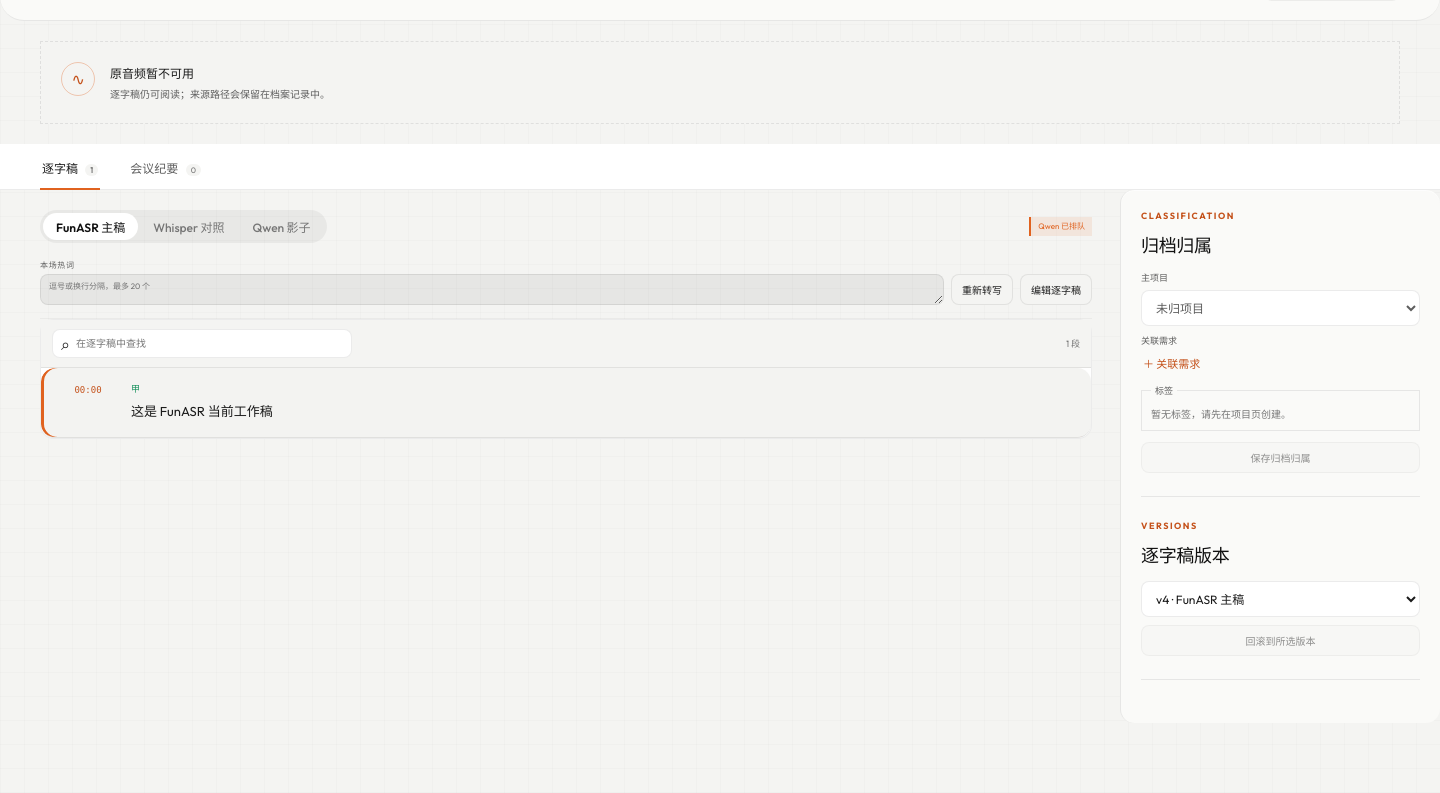
Scenario: MeetingDetailPage Whisper comparison › keeps the active Qwen candidate and gold editor stable while retaining only the newest out-of-order snapshot
(page scrolled)
Click the button "Qwen 影子" at (282, 226), box [239,213,324,240]
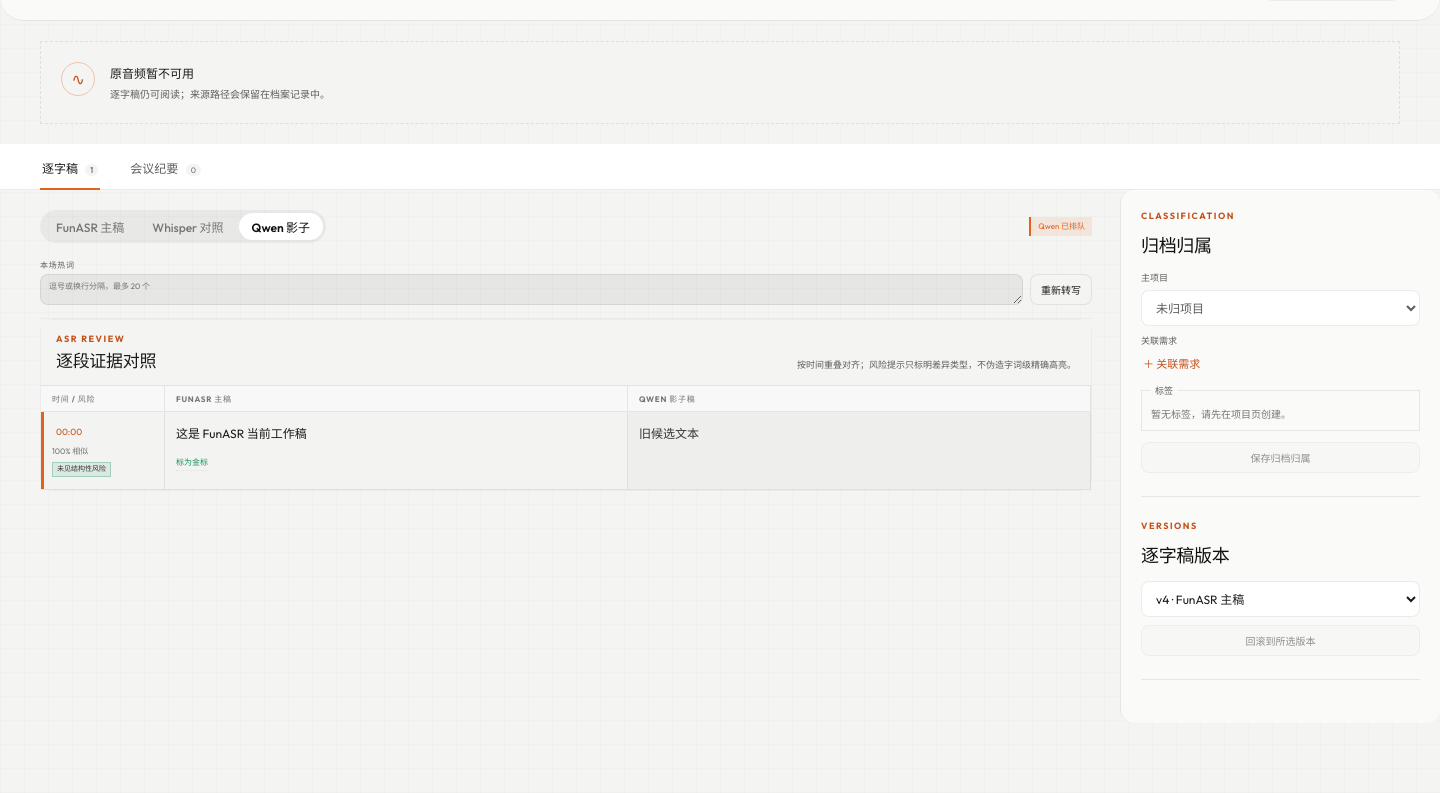
Expected: the text "旧候选文本" is shown, [639,426,699,441]
Click the button "标为金标" at (192, 462), box [176,453,208,471]
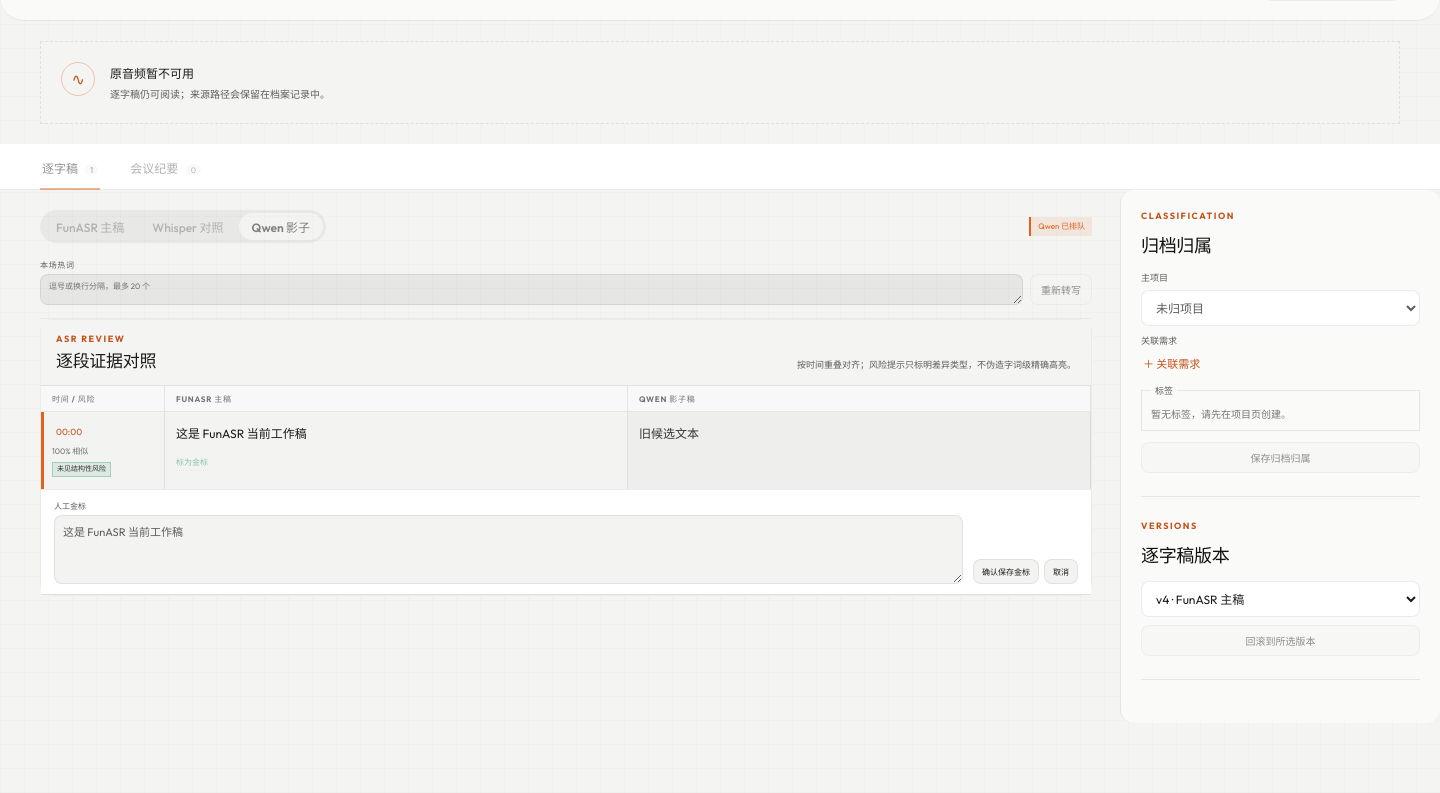
Replace the text in the text box named "seg-main 金标文本" with "正在人工修订的金标" at (508, 549), box [54,515,963,584]
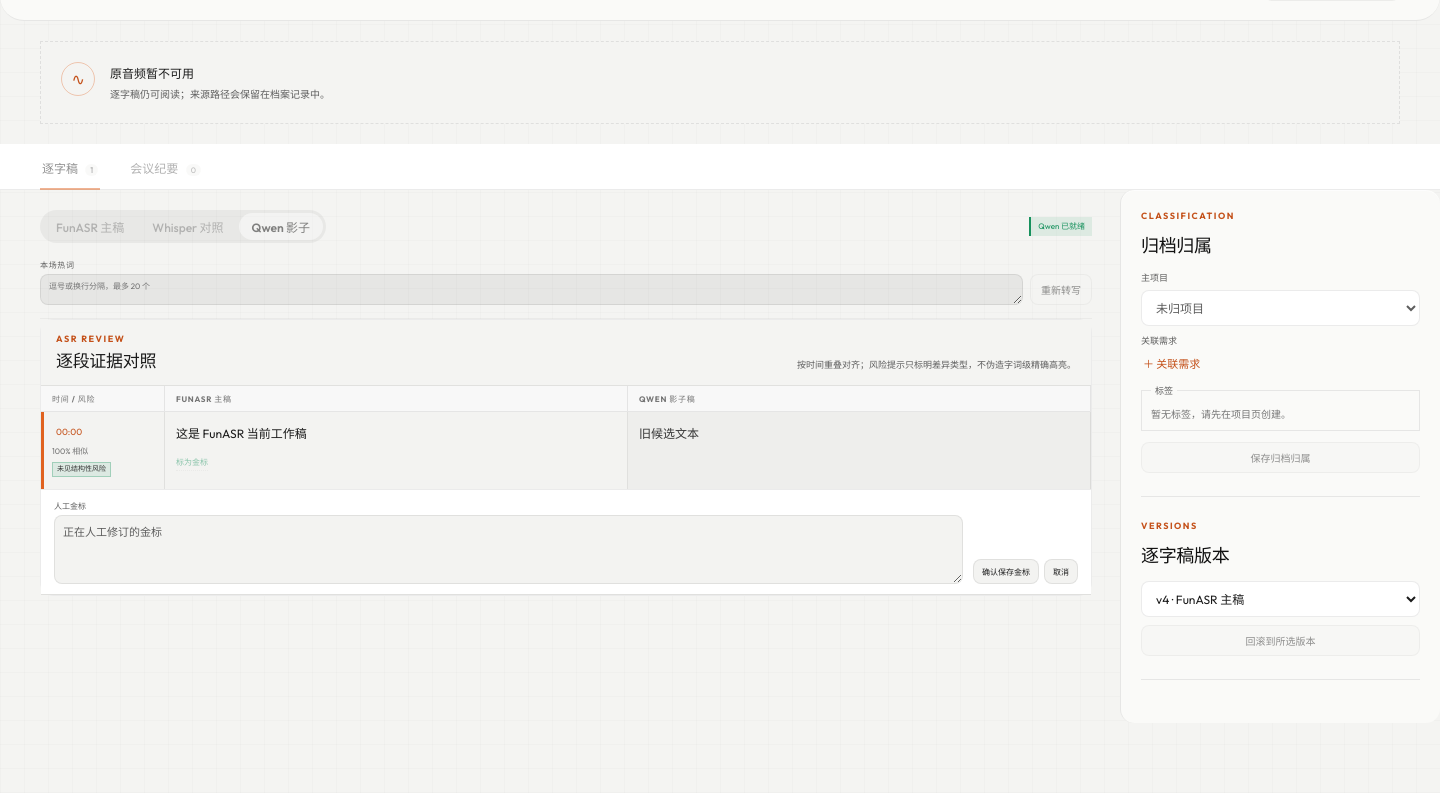
Expected: the text "旧候选文本" is shown, [639,426,699,441]
Click the button "确认保存金标" at (1006, 571), box [973,559,1039,584]
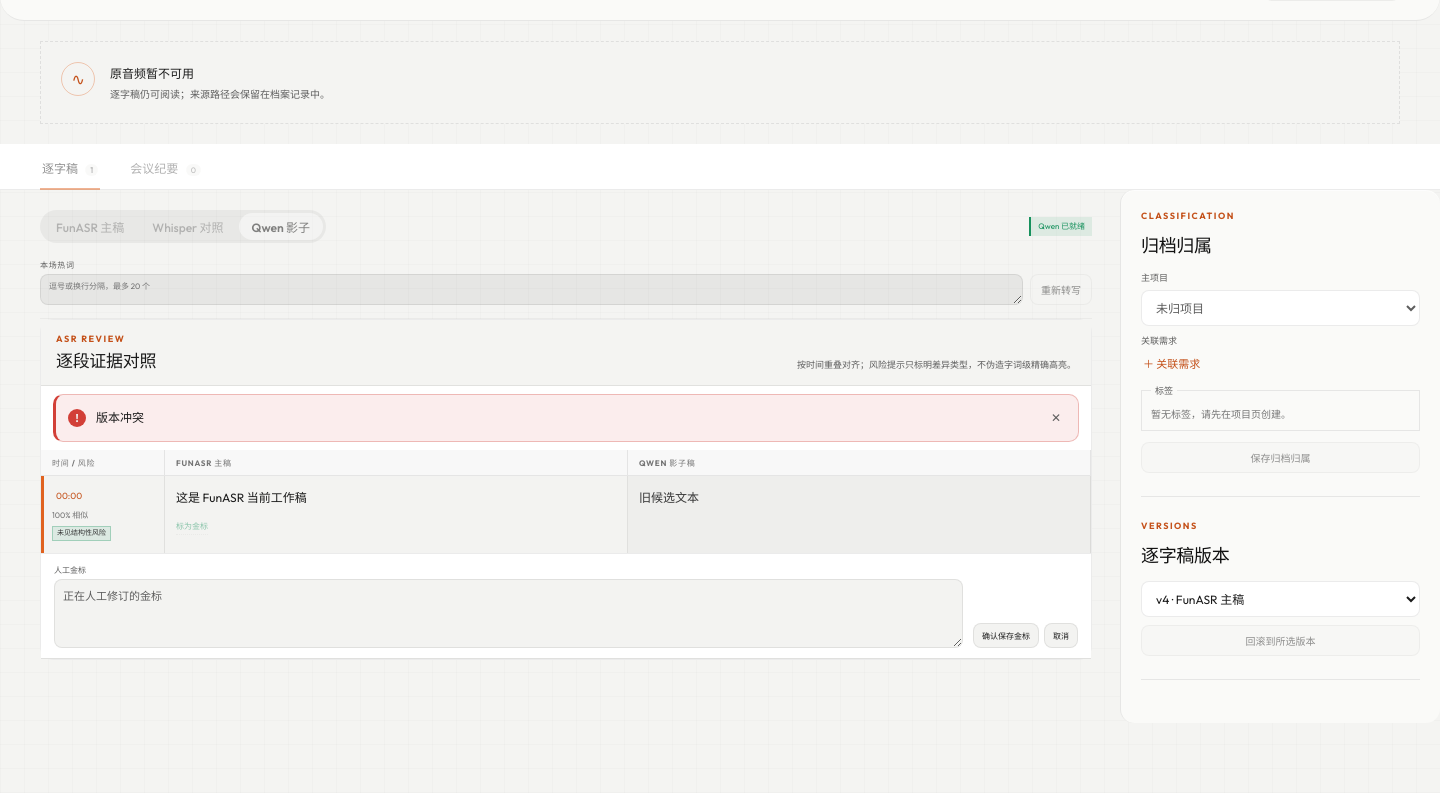
Expected: the text "旧候选文本" is shown, [639,490,699,505]
Expected: the text "版本冲突" is shown, [96,410,144,425]
Click the button "取消" at (1061, 635), box [1044,623,1078,648]
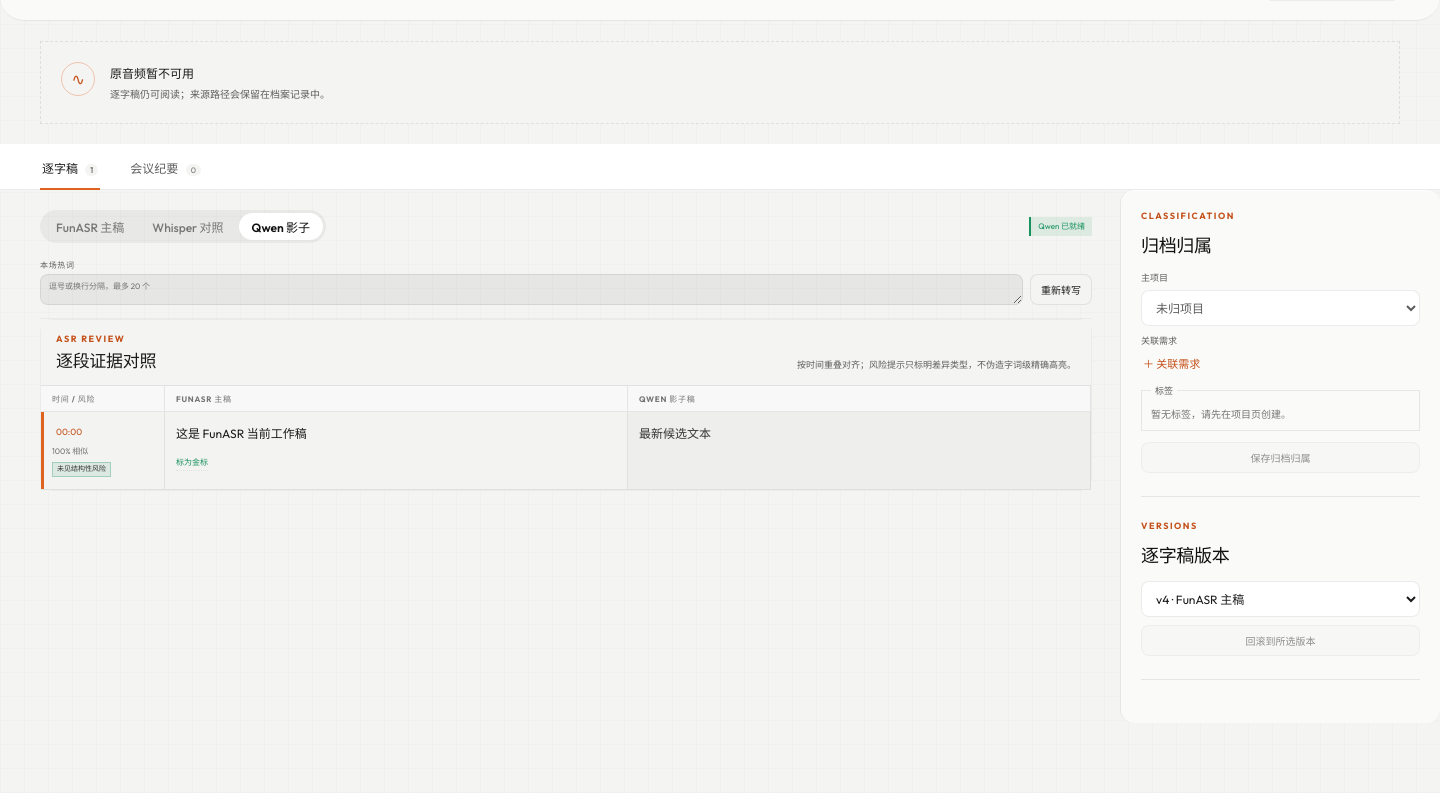
Expected: the text "最新候选文本" is shown, [639,426,711,441]
